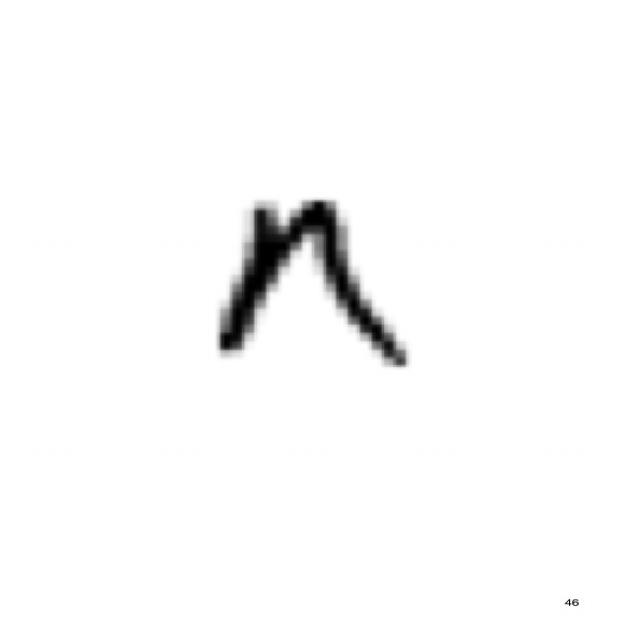8 -eight-: (196, 186, 428, 384)
